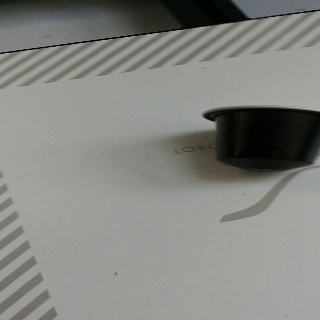capsule_10: (199, 104, 320, 173)
